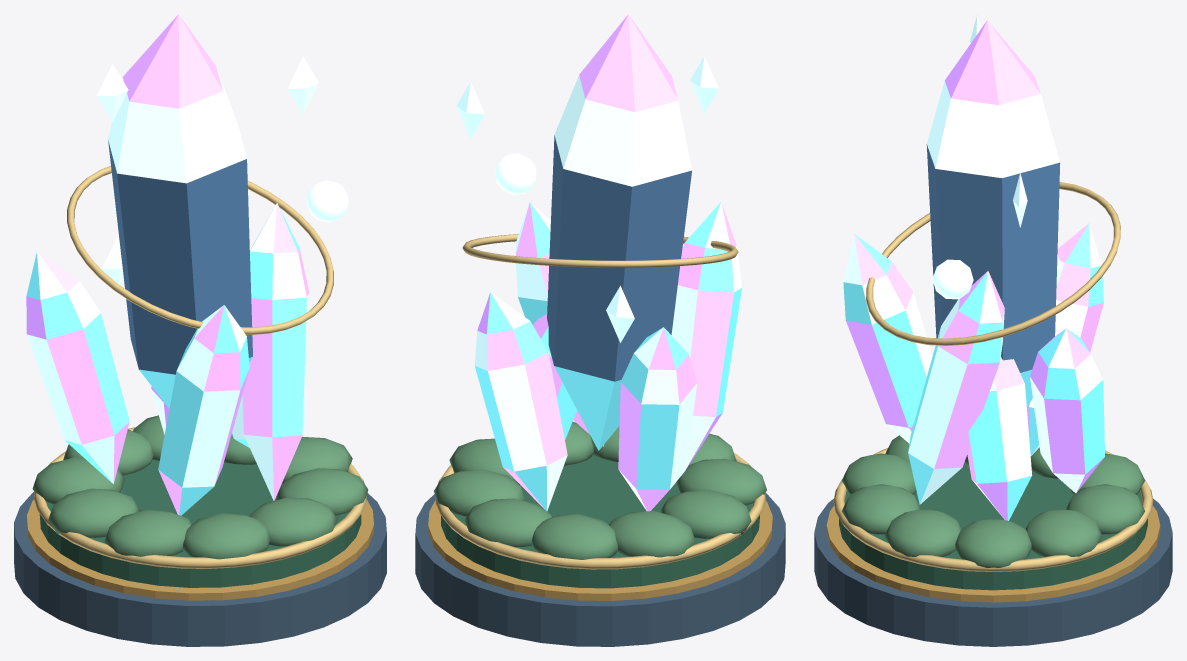
File: moon-crystal.glb
3 views of the same model, side by side, from view 1: azimuth 30°, elevation 25°; view 2: azimuth 150°, elevation 25°; view 3: azimuth 270°, elevation 25° (orthographic). The views are drawn at different scales.
Parts seen in each view (by area): view 1: Moon • great six-sided prism, Moon • slate foot, Moon • satellite prism 02, Moon • satellite prism 04, Moon • satellite prism 03, Moon • velvet moss bed, Moon • brass inset, Moon • engraved brass rim, Moon • floating brass orbit, Moon • moss cushion 07, Moon • moss cushion 06, Moon • moss cushion 05 (+11 smaller); view 2: Moon • great six-sided prism, Moon • slate foot, Moon • satellite prism 01, Moon • velvet moss bed, Moon • satellite prism 02, Moon • satellite prism 03, Moon • brass inset, Moon • engraved brass rim, Moon • satellite prism 04, Moon • moss cushion 03, Moon • moss cushion 04, Moon • moss cushion 05 (+13 smaller); view 3: Moon • great six-sided prism, Moon • slate foot, Moon • satellite prism 04, Moon • velvet moss bed, Moon • satellite prism 03, Moon • satellite prism 01, Moon • satellite prism 00, Moon • brass inset, Moon • satellite prism 02, Moon • engraved brass rim, Moon • floating brass orbit, Moon • moss cushion 00 (+7 smaller).
Boxes of the visible parts, x1,y1,x2,y2 form: Moon • great six-sided prism: (108,14,252,408); Moon • slate foot: (14,492,386,646); Moon • satellite prism 02: (26,252,129,483); Moon • satellite prism 04: (242,203,309,500); Moon • satellite prism 03: (158,305,249,515); Moon • velvet moss bed: (39,459,361,587); Moon • brass inset: (27,499,373,600); Moon • engraved brass rim: (34,427,366,568); Moon • floating brass orbit: (67,166,333,334); Moon • moss cushion 07: (182,513,269,559); Moon • moss cushion 06: (104,510,191,556); Moon • moss cushion 05: (48,488,140,537); Moon • great six-sided prism: (547,14,691,450); Moon • slate foot: (415,493,785,646); Moon • satellite prism 01: (474,292,567,511); Moon • velvet moss bed: (441,455,759,588); Moon • satellite prism 02: (618,327,697,511); Moon • satellite prism 03: (671,202,741,469); Moon • brass inset: (428,500,772,600); Moon • engraved brass rim: (435,453,765,569); Moon • satellite prism 04: (515,202,604,446); Moon • moss cushion 03: (531,514,617,559); Moon • moss cushion 04: (609,511,695,557); Moon • moss cushion 05: (660,489,751,538); Moon • great six-sided prism: (926,20,1060,406); Moon • slate foot: (814,498,1172,646); Moon • satellite prism 04: (908,271,1004,504); Moon • velvet moss bed: (839,462,1147,590); Moon • satellite prism 03: (843,233,932,443); Moon • satellite prism 01: (1030,328,1104,493); Moon • satellite prism 00: (967,357,1032,520); Moon • brass inset: (826,505,1160,602); Moon • satellite prism 02: (1027,223,1103,456); Moon • engraved brass rim: (833,448,1153,571); Moon • floating brass orbit: (866,182,1120,345); Moon • moss cushion 00: (955,518,1031,572).
Size of the model in its own units: 1.16 by 1.93 by 1.16.
